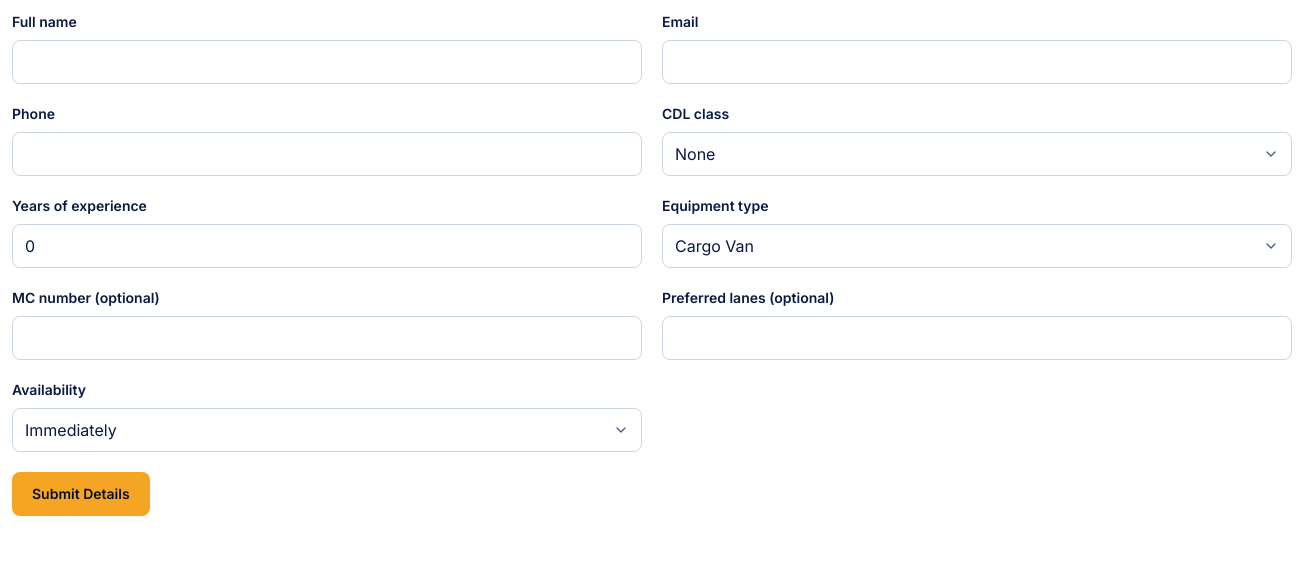
Test: OwnerOperatorForm › blocks submission when required fields are empty
What coordinates should you click on to do the following:
click the button "Submit Details"
I would click on:
 (81, 494)
Its box is 12,472 -> 150,516.
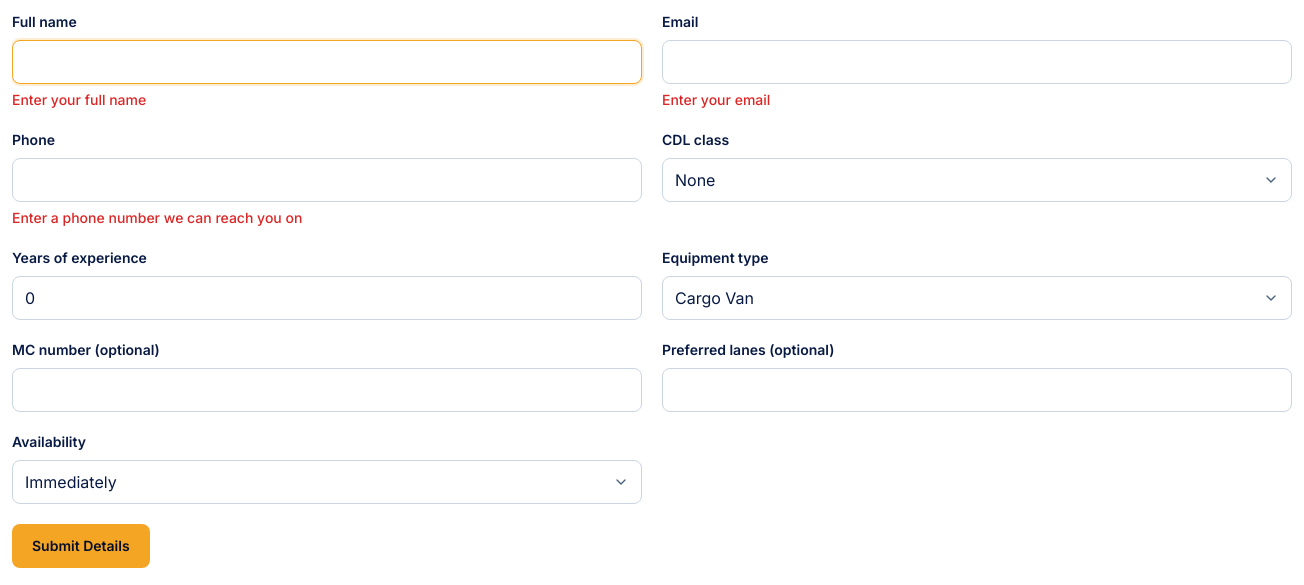
Now the text "Enter your full name" is shown, box 12,91 -> 146,108
